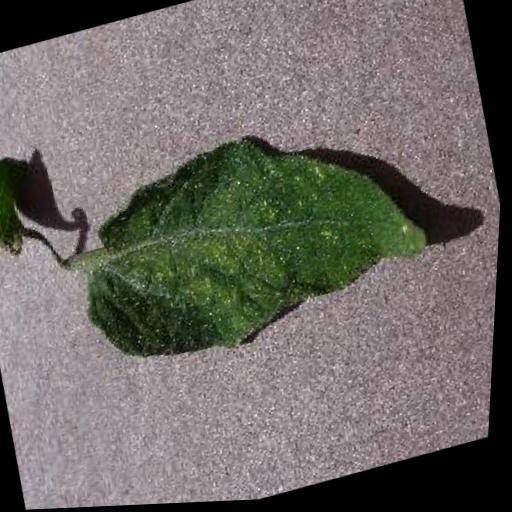Spider Mites: (63, 99, 451, 385)
